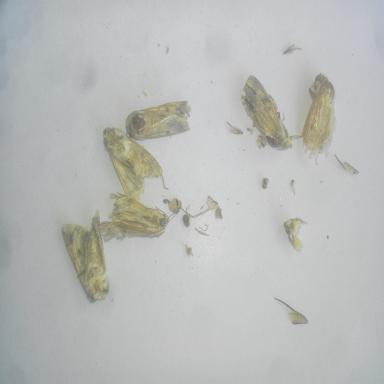abw: (98, 122, 172, 203), (100, 185, 185, 249), (237, 70, 299, 157), (57, 209, 112, 306), (300, 71, 344, 170), (122, 96, 194, 147)
